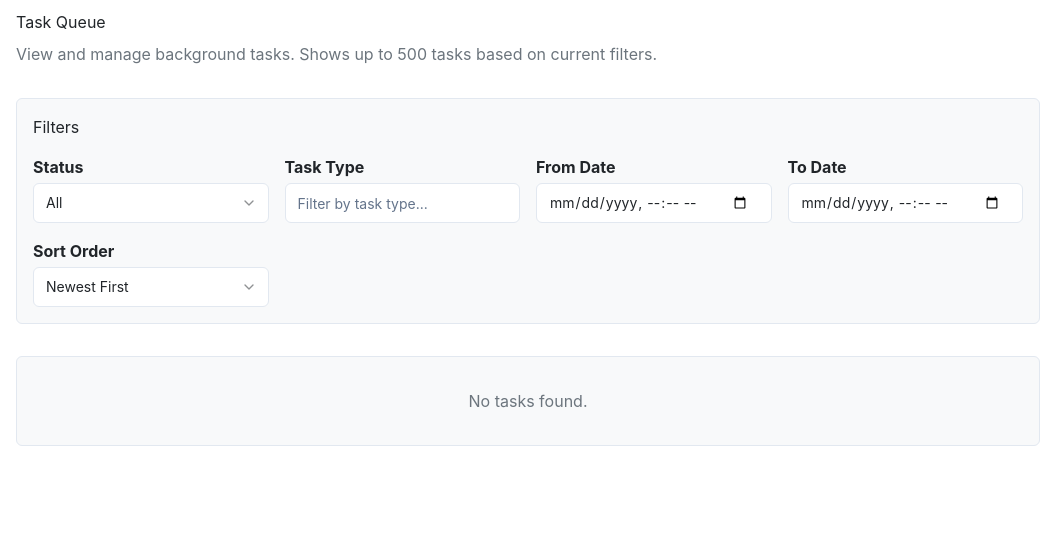
Test: TasksList › keeps the filter field and focus while results refresh
Expected: the text "No tasks found." is shown, top-left (16, 356), bottom-right (1040, 446)
Type "reminder" into the field labelled "Task Type" at x=402, y=203, box top-left (284, 183), bottom-right (520, 223)
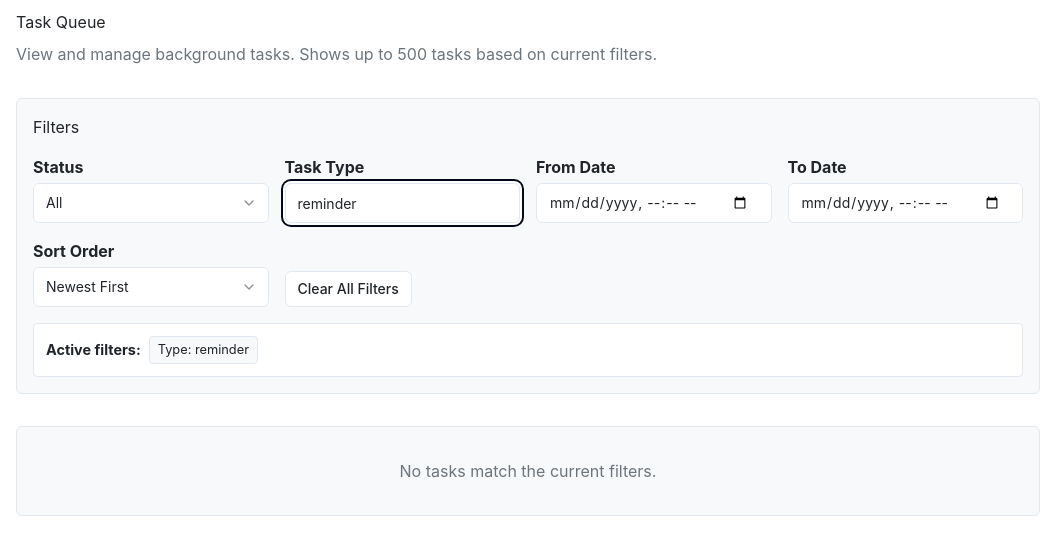
Now the text "No tasks match the current filters." is shown, box top-left (16, 426), bottom-right (1040, 516)
